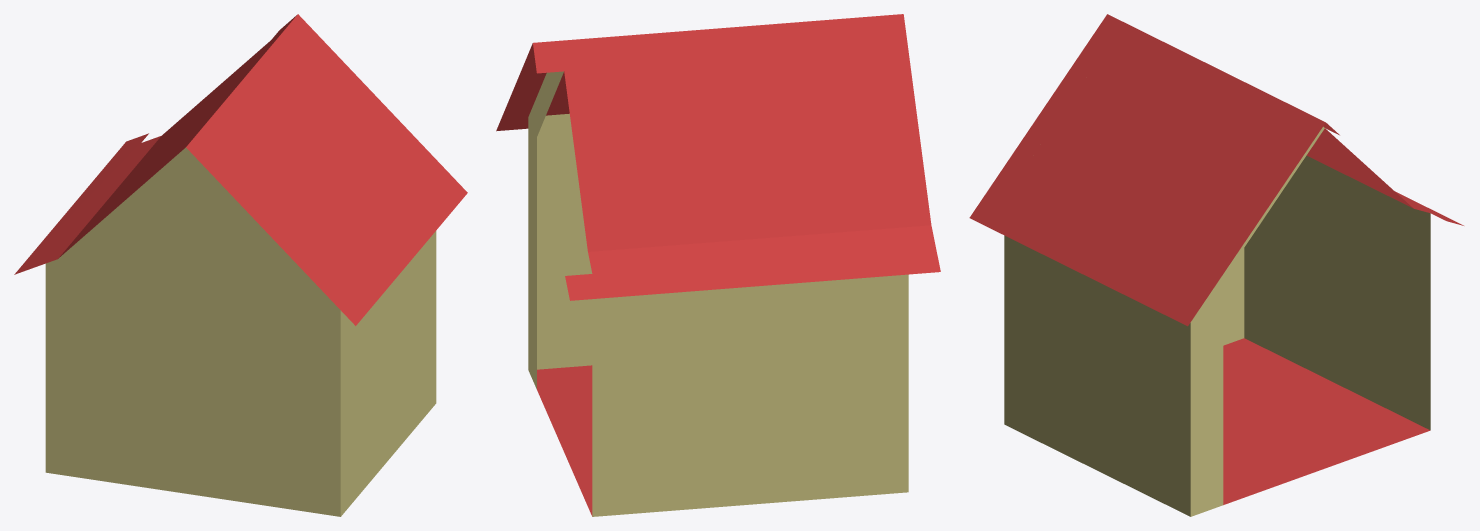
The picture shows the model from 3 angles, left to right: view 1: azimuth 30°, elevation 25°; view 2: azimuth 150°, elevation 25°; view 3: azimuth 270°, elevation 25°; orthographic projection. The views are drawn at different scales.
Size of the model in its own units: 19.86 by 19.99 by 15.98.
